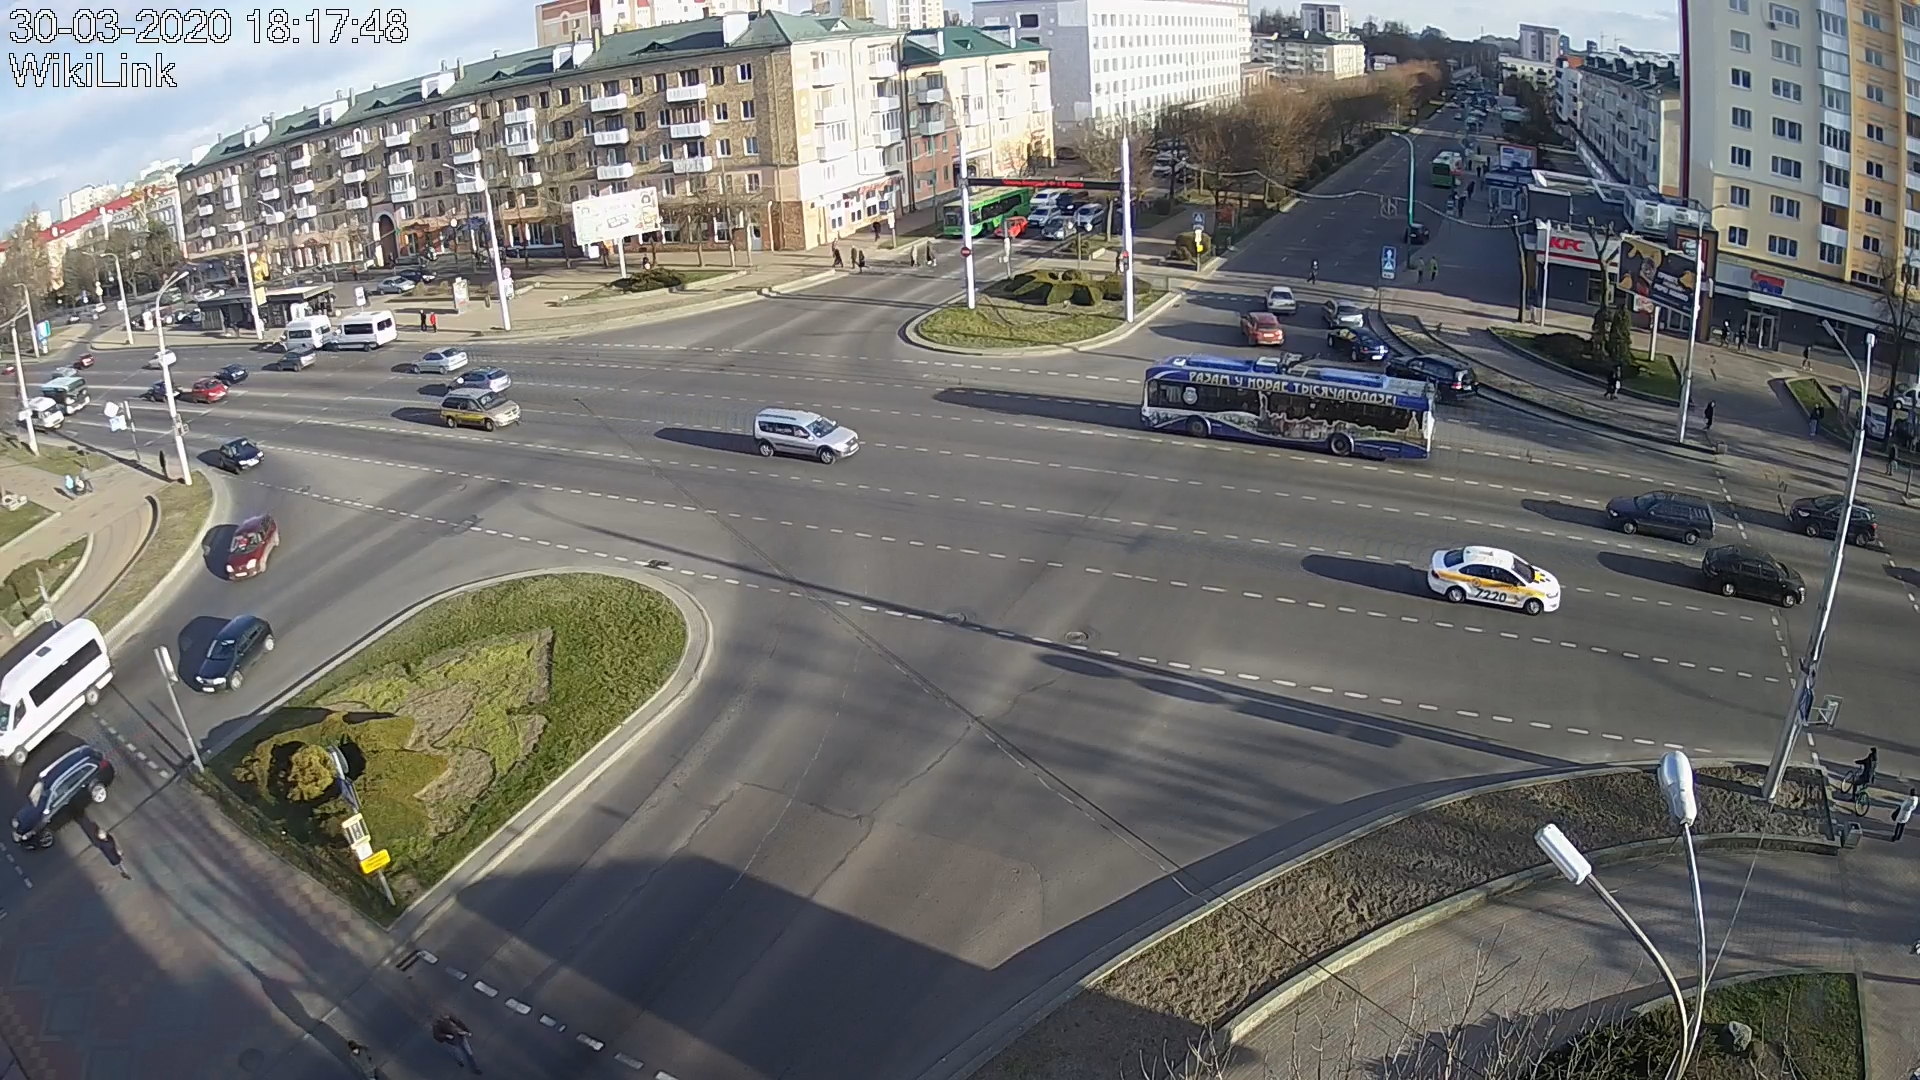bus: (1139, 353, 1436, 462), (943, 186, 1029, 236)
car: (1, 620, 115, 765), (11, 744, 115, 849), (1427, 546, 1561, 616), (1702, 545, 1807, 608), (195, 616, 276, 694), (1607, 491, 1716, 547), (754, 407, 860, 464), (1385, 353, 1478, 404), (1789, 495, 1878, 547), (225, 516, 282, 582), (440, 388, 522, 431), (331, 310, 398, 352), (1327, 328, 1389, 363), (277, 315, 332, 349), (447, 367, 512, 396), (411, 345, 468, 375), (220, 436, 264, 473), (1240, 310, 1283, 345), (1320, 299, 1364, 330), (1040, 215, 1077, 241), (193, 377, 228, 404), (278, 347, 316, 371), (1027, 204, 1062, 229), (1266, 285, 1295, 313), (994, 216, 1029, 239), (219, 364, 249, 385), (1076, 203, 1104, 225)
